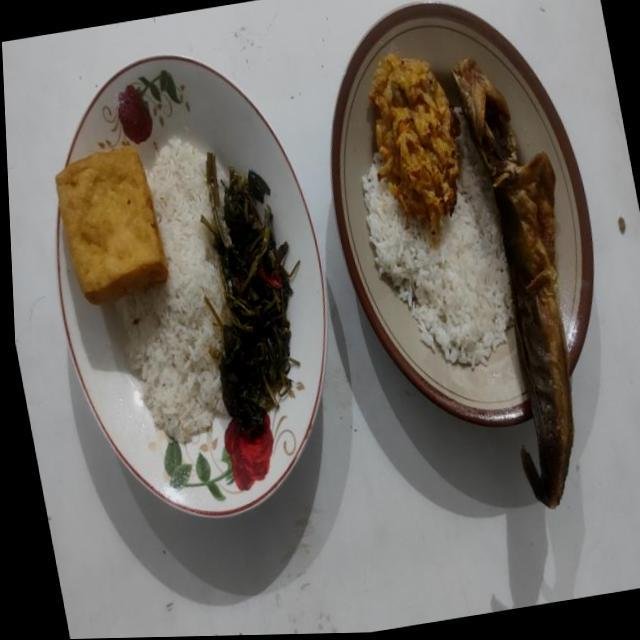nasi_putih: (362, 128, 514, 370), (115, 136, 228, 441)
tahu_goreng: (56, 146, 168, 304)
tumis_kangkung: (201, 153, 299, 438)
